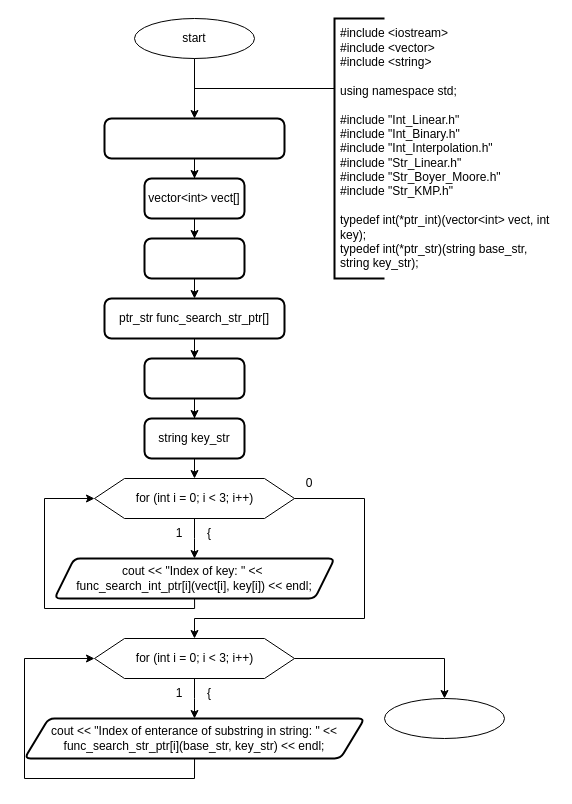
Image size: 572x804. Some labels were removed from this diagram. Each missing label, with the centre of its shape:
int key[]: pixel 194 258
ptr_int func_search_int_ptr[]: pixel 194 138
return 0: pixel 444 718
string base_str: pixel 194 378
